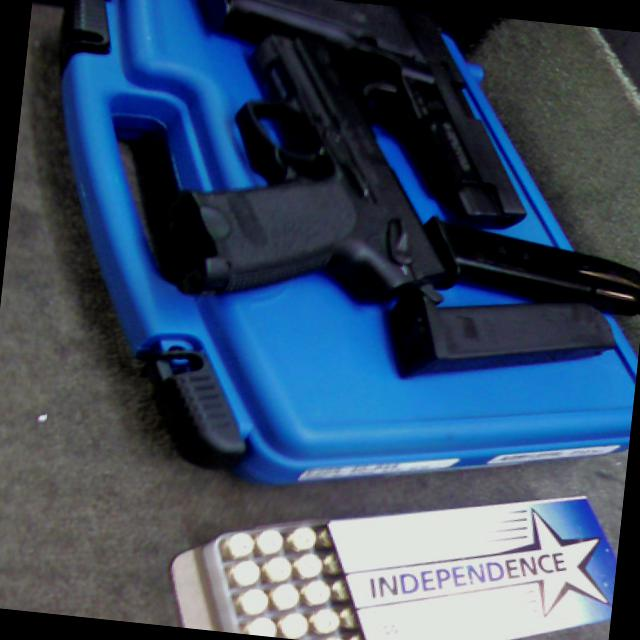handgun: (153, 17, 465, 328)
